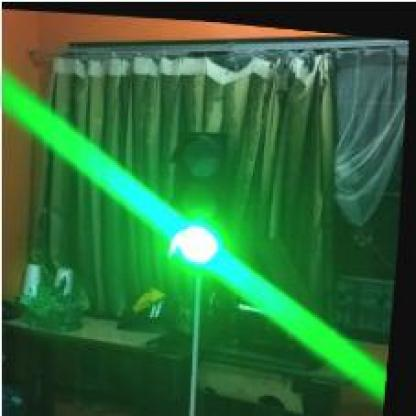green: (165, 124, 235, 265)
